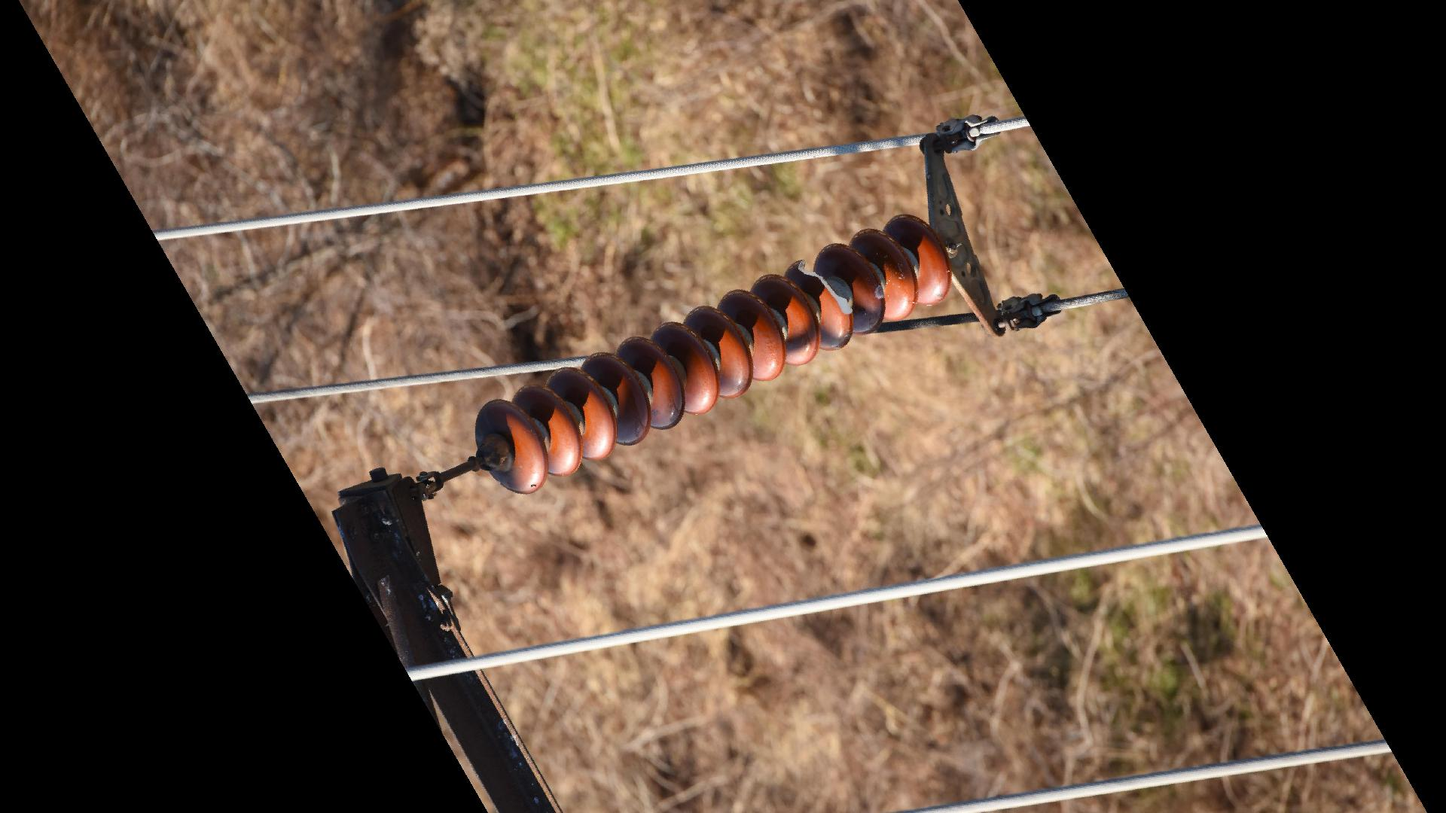insulator: (468, 206, 958, 499)
insulator_breakage: (791, 256, 856, 321)
